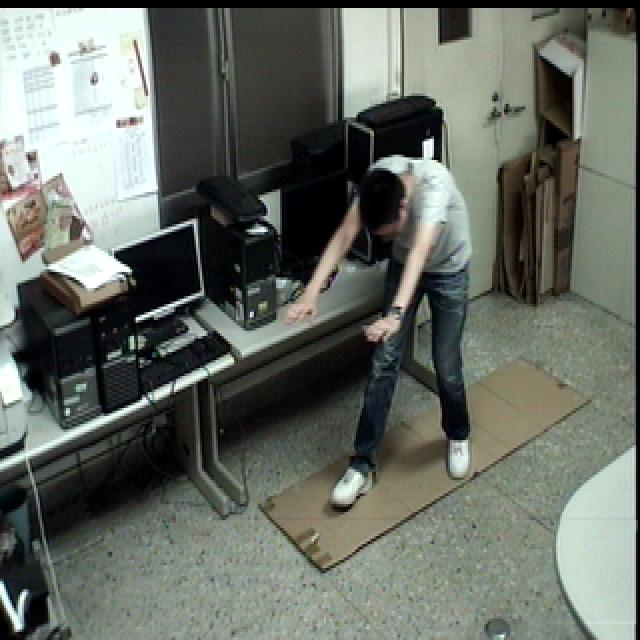bend: (284, 147, 485, 513)
